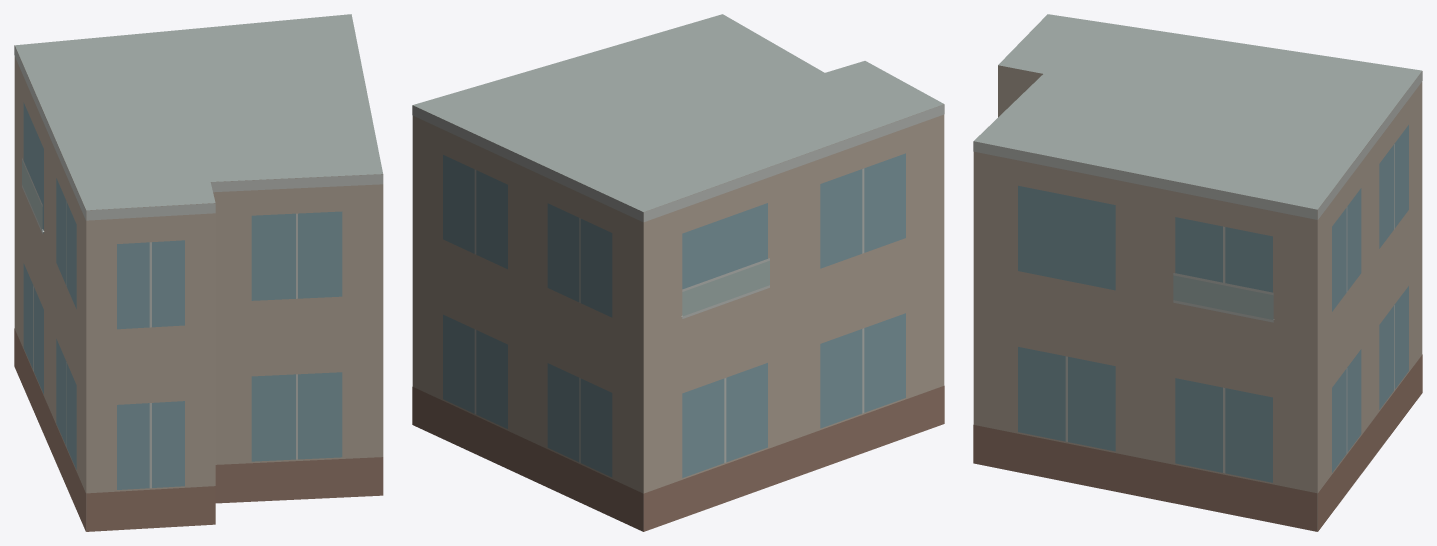
File: survey-upis-32611318.glb
3 views of the same model, side by side, from view 1: azimuth 30°, elevation 25°; view 2: azimuth 150°, elevation 25°; view 3: azimuth 270°, elevation 25° (orthographic).
Visible parts, largest first — view 1: survey-upis-32611318.tmp; view 2: survey-upis-32611318.tmp; view 3: survey-upis-32611318.tmp.
Part boxes in pixels (x1,y1,x2,y2): survey-upis-32611318.tmp: (14,14,383,531); survey-upis-32611318.tmp: (412,14,944,531); survey-upis-32611318.tmp: (973,14,1422,531).
Bounding box in the file's own units: 9.91 × 7.6 × 9.61.
